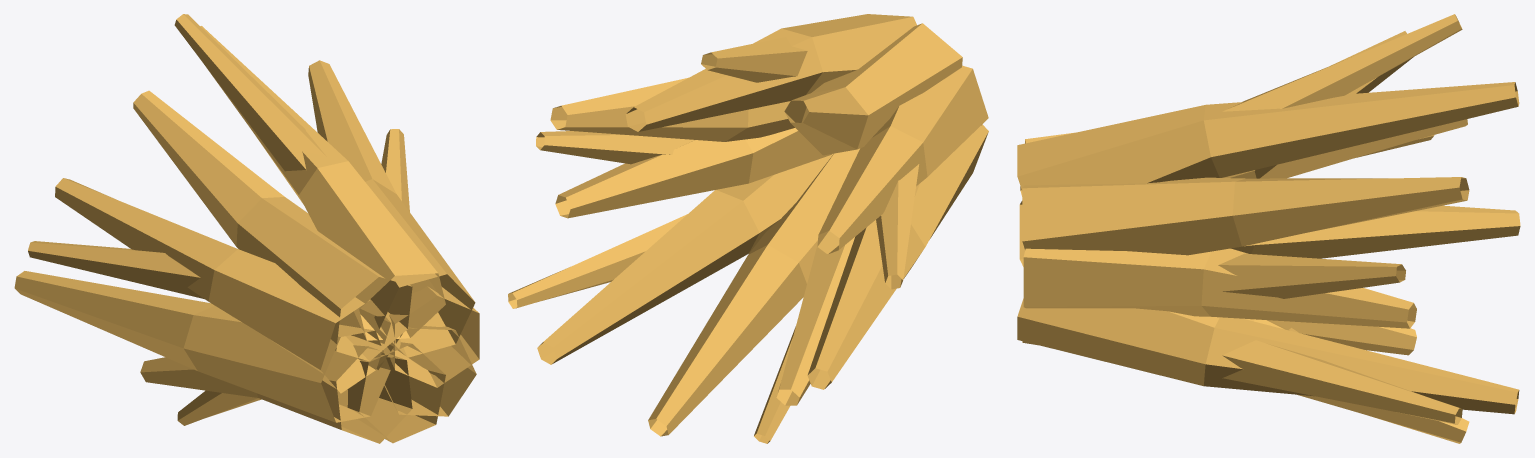
File: coral_crown.glb
The picture shows the model from 3 angles, left to right: view 1: azimuth 30°, elevation 25°; view 2: azimuth 150°, elevation 25°; view 3: azimuth 270°, elevation 25°; orthographic projection. The views are drawn at different scales.
Parts seen in each view (by area): view 1: CORAL_CROWN; view 2: CORAL_CROWN; view 3: CORAL_CROWN.
Part boxes in pixels (<box>): CORAL_CROWN: <box>14,14,479,443</box>; CORAL_CROWN: <box>508,14,988,443</box>; CORAL_CROWN: <box>1017,14,1520,443</box>.
Bounding box in the file's own units: 0.864 × 0.8787 × 0.9593.
